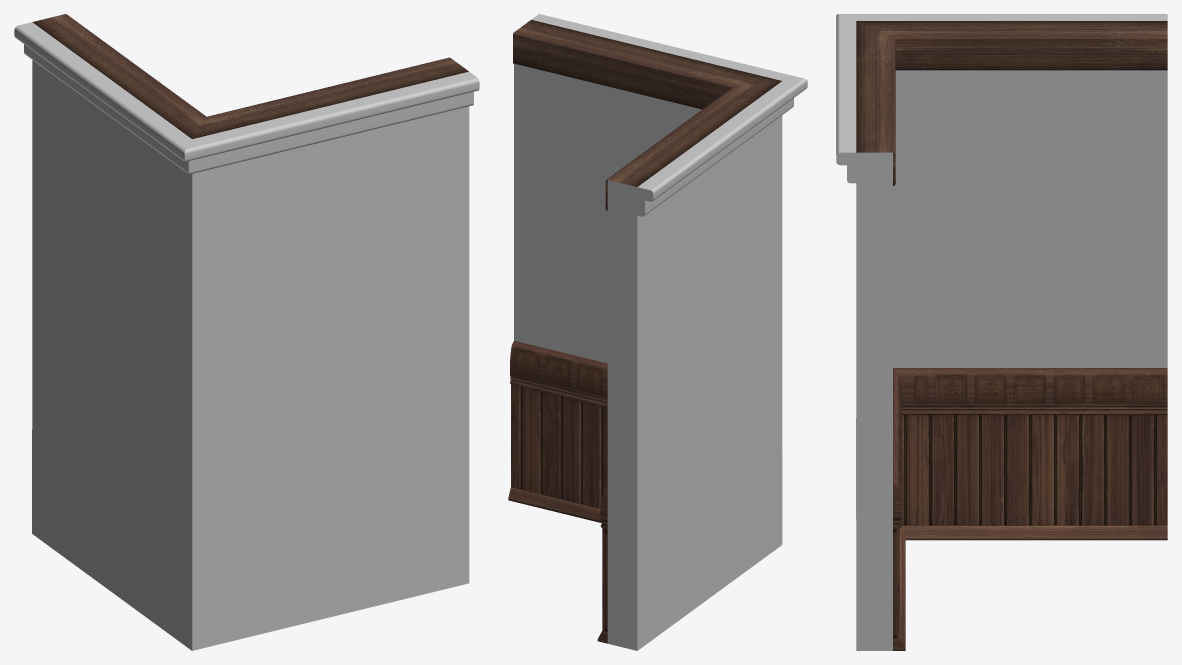
Rendered from Wall Cornor.fbx.
The picture shows the model from 3 angles, left to right: view 1: azimuth 30°, elevation 25°; view 2: azimuth 150°, elevation 25°; view 3: azimuth 270°, elevation 25°; orthographic projection. The views are drawn at different scales.
Visible parts, largest first — view 1: SM_Vintage_Wall_Module_Corner_1_5x3_FixedMat_LOD0; view 2: SM_Vintage_Wall_Module_Corner_1_5x3_FixedMat_LOD0; view 3: SM_Vintage_Wall_Module_Corner_1_5x3_FixedMat_LOD0.
Part boxes in pixels (left/top/right/bottom): SM_Vintage_Wall_Module_Corner_1_5x3_FixedMat_LOD0: left=14, top=14, right=479, bottom=650; SM_Vintage_Wall_Module_Corner_1_5x3_FixedMat_LOD0: left=508, top=14, right=807, bottom=650; SM_Vintage_Wall_Module_Corner_1_5x3_FixedMat_LOD0: left=836, top=14, right=1167, bottom=650.
Size of the model in its own units: 181 by 300 by 181.
